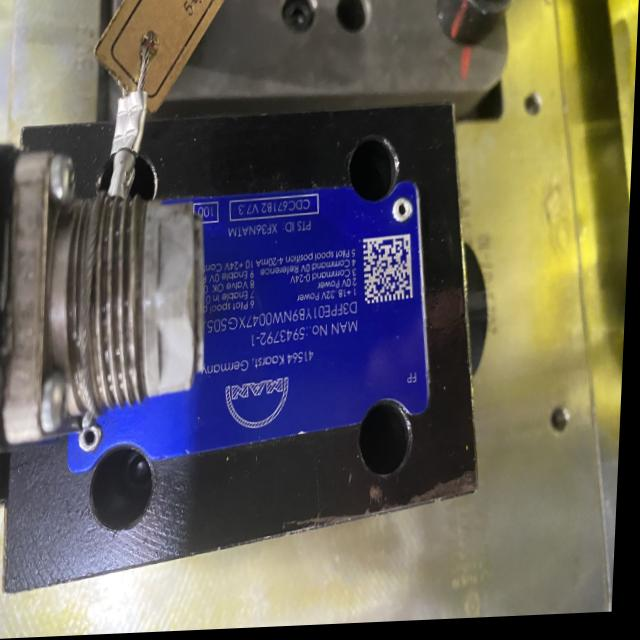dmc: (365, 238, 416, 308)
